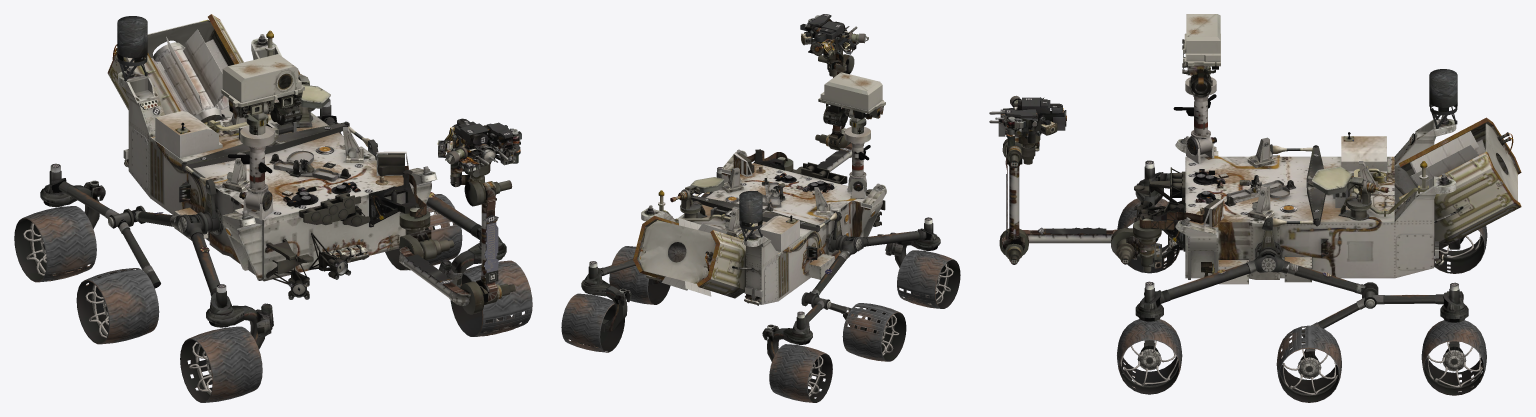
Rendered from curiosity_static.gltf.
3 views of the same model, side by side, from view 1: azimuth 30°, elevation 25°; view 2: azimuth 150°, elevation 25°; view 3: azimuth 270°, elevation 25° (orthographic). The views are drawn at different scales.
Visible parts, largest first — view 1: MSL; view 2: MSL; view 3: MSL.
Part boxes in pixels (left/top/right/bottom): MSL: left=14, top=14, right=532, bottom=402; MSL: left=561, top=14, right=960, bottom=402; MSL: left=989, top=14, right=1521, bottom=402.
Bounding box in the file's own units: 2.78 × 2.22 × 3.94.
9 materials, 8 textured.
